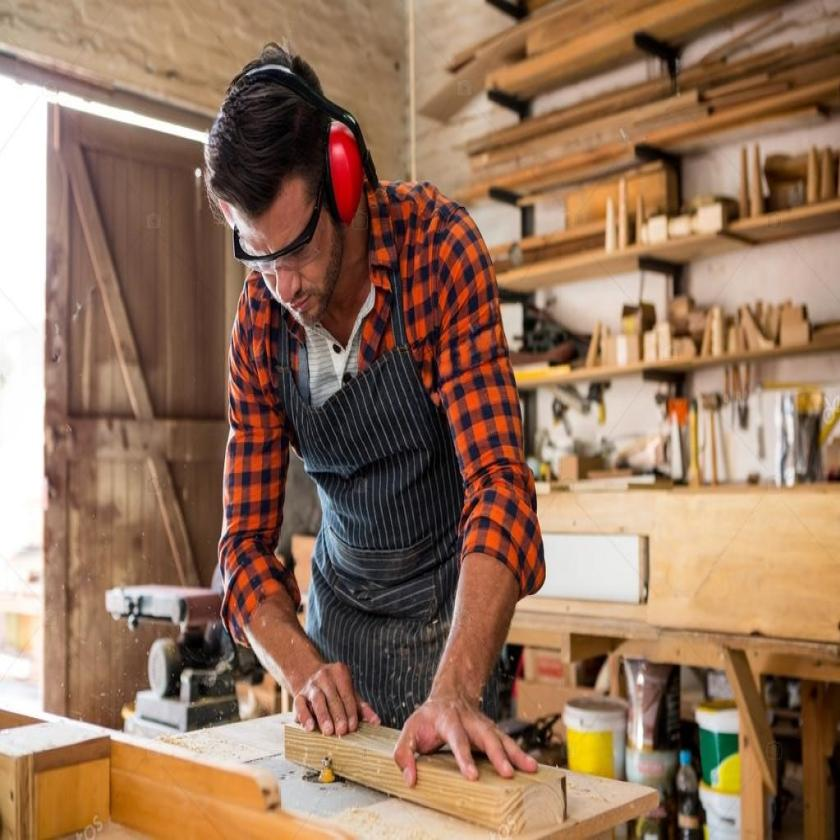Sin_casco: (195, 27, 361, 346)
